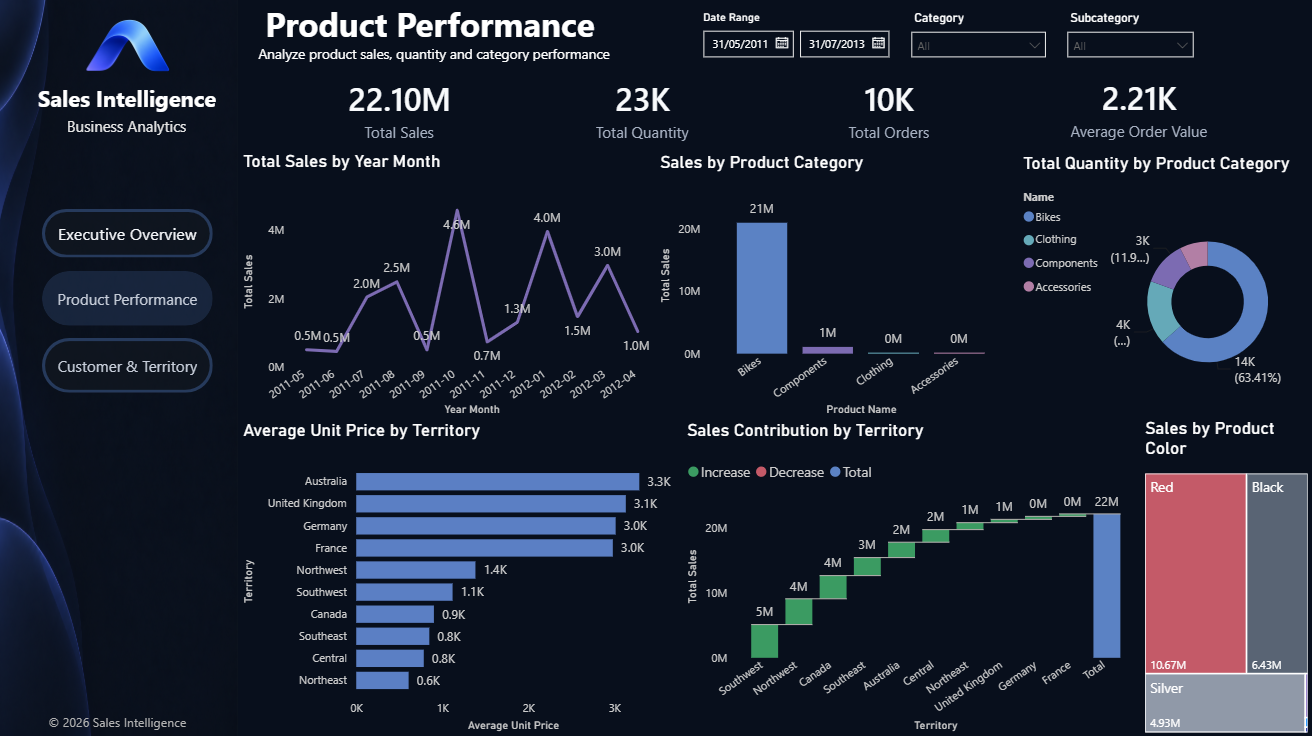

This screenshot's page, from the dashboard's own definition file:
{"tool":"powerbi","page":{"name":"Product Performance","canvas":[1280,720],"ordinal":1},"visuals":[{"type":"cardVisual","fields":{"Data":["SalesOrderDetails.Total Sales"]},"box":[273.3,63.2,236.4,95],"z":0},{"type":"cardVisual","fields":{"Data":["SalesOrders.Total Orders"]},"box":[746,63.2,243.3,95],"z":1000},{"type":"cardVisual","fields":{"Data":["SalesOrders.Average Order Value"]},"box":[989.2,62.2,243.3,96],"z":2000},{"type":"lineChart","fields":{"Category":["DateTable.Year Month"],"Y":["SalesOrderDetails.Total Sales"]},"box":[234.4,150.4,405.6,262.1],"z":3000},{"type":"shape","box":[0,0,234.4,720.1],"z":4000},{"type":"barChart","title":"Average Unit Price by Territory","fields":{"Category":["Territory.Name"],"Y":["SalesOrderDetails.Average Unit Price"]},"box":[234.4,412.5,432.3,307.6],"z":5000},{"type":"donutChart","title":"Total Quantity by Product Category","fields":{"Category":["ProductCategory.Name"],"Y":["SalesOrderDetails.Total Quantity"]},"box":[993.1,152.7,286.9,259.7],"z":6000},{"type":"treemap","title":"Sales by Product Color","fields":{"Group":["Product.Color"],"Values":["SalesOrderDetails.Total Sales"]},"box":[1111.8,410.5,168.2,310.6],"z":7000},{"type":"waterfallChart","title":"Sales Contribution by Territory","fields":{"Category":["Territory.Name"],"Y":["SalesOrderDetails.Total Sales"]},"box":[666.7,412.5,445.1,307.6],"z":8000},{"type":"textbox","box":[255.8,0,338.3,56.4],"z":9000},{"type":"image","box":[0,0,234.4,720.1],"z":10000},{"type":"actionButton","box":[43.5,206.7,166.2,47.5],"z":11000},{"type":"actionButton","box":[43.5,267.1,166.2,53.4],"z":12000},{"type":"actionButton","box":[43.5,332.4,166.2,53.4],"z":13000},{"type":"image","box":[69.2,17.8,114.7,62.3],"z":14000},{"type":"textbox","box":[31.7,80.1,188.9,39.6],"z":15000},{"type":"textbox","box":[52.4,110.8,147.4,32.6],"z":16000},{"type":"textbox","box":[35.6,691.4,162.2,27.7],"z":17000},{"type":"textbox","box":[244.1,41.8,361.8,28.2],"z":18000},{"type":"slicer","fields":{"Values":["DateTable.Date"]},"box":[673.6,9.9,205.7,59.4],"z":19000},{"type":"slicer","fields":{"Values":["ProductCategory.Name"]},"box":[879.4,9.9,151.3,64.3],"z":20000},{"type":"slicer","fields":{"Values":["ProductSubCategory.Name"]},"box":[1030.7,9.9,143.4,64.3],"z":21000},{"type":"cardVisual","fields":{"Data":["SalesOrderDetails.Total Quantity"]},"box":[509.7,63.2,236.4,95.3],"z":22000},{"type":"clusteredColumnChart","title":"Sales by Product Category","fields":{"Category":["ProductCategory.Name"],"Y":["SalesOrderDetails.Total Sales"]},"box":[640,151.3,353.1,261.1],"z":23000}]}

Visuals, with their boxes in screenshot pixels (x1, y1, x2, y2), scaled from the page's 1280x720 canvas onto the 1312x736 screenshot:
cardVisual - SalesOrderDetails.Total Sales: 280 65 522 162
cardVisual - SalesOrders.Total Orders: 765 65 1014 162
cardVisual - SalesOrders.Average Order Value: 1014 64 1263 162
lineChart - DateTable.Year Month x SalesOrderDetails.Total Sales: 240 154 656 422
shape: 0 0 240 735
"Average Unit Price by Territory" barChart: 240 422 683 735
"Total Quantity by Product Category" donutChart: 1018 156 1311 422
"Sales by Product Color" treemap: 1140 420 1311 735
"Sales Contribution by Territory" waterfallChart: 683 422 1140 735
textbox: 262 0 609 58
image: 0 0 240 735
actionButton: 45 211 215 260
actionButton: 45 273 215 328
actionButton: 45 340 215 394
image: 71 18 188 82
textbox: 32 82 226 122
textbox: 54 113 205 147
textbox: 36 707 203 735
textbox: 250 43 621 72
slicer - DateTable.Date: 690 10 901 71
slicer - ProductCategory.Name: 901 10 1056 76
slicer - ProductSubCategory.Name: 1056 10 1203 76
cardVisual - SalesOrderDetails.Total Quantity: 522 65 765 162
"Sales by Product Category" clusteredColumnChart: 656 155 1018 422
